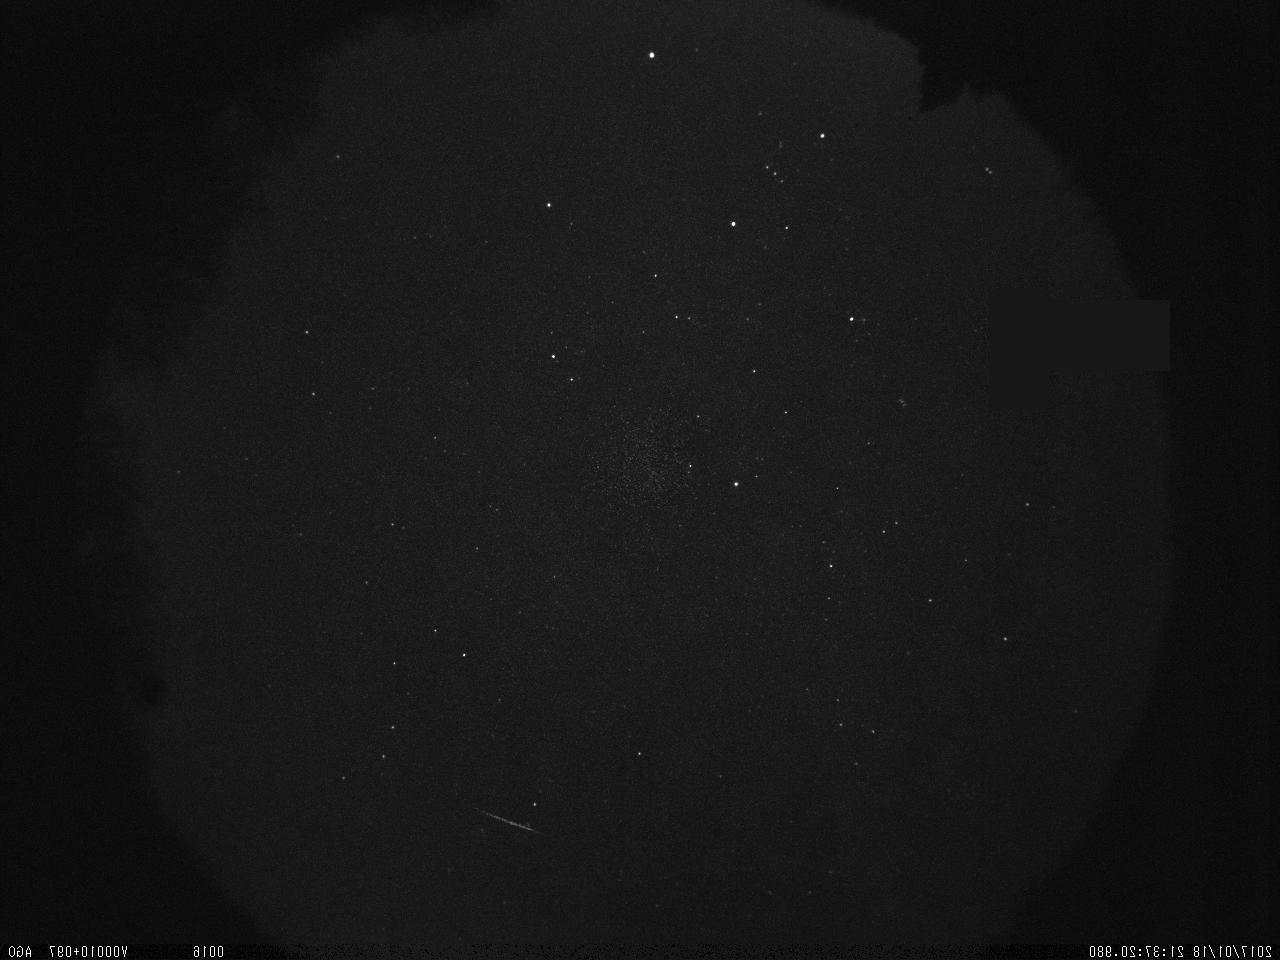meteor: (464, 804, 543, 845)
